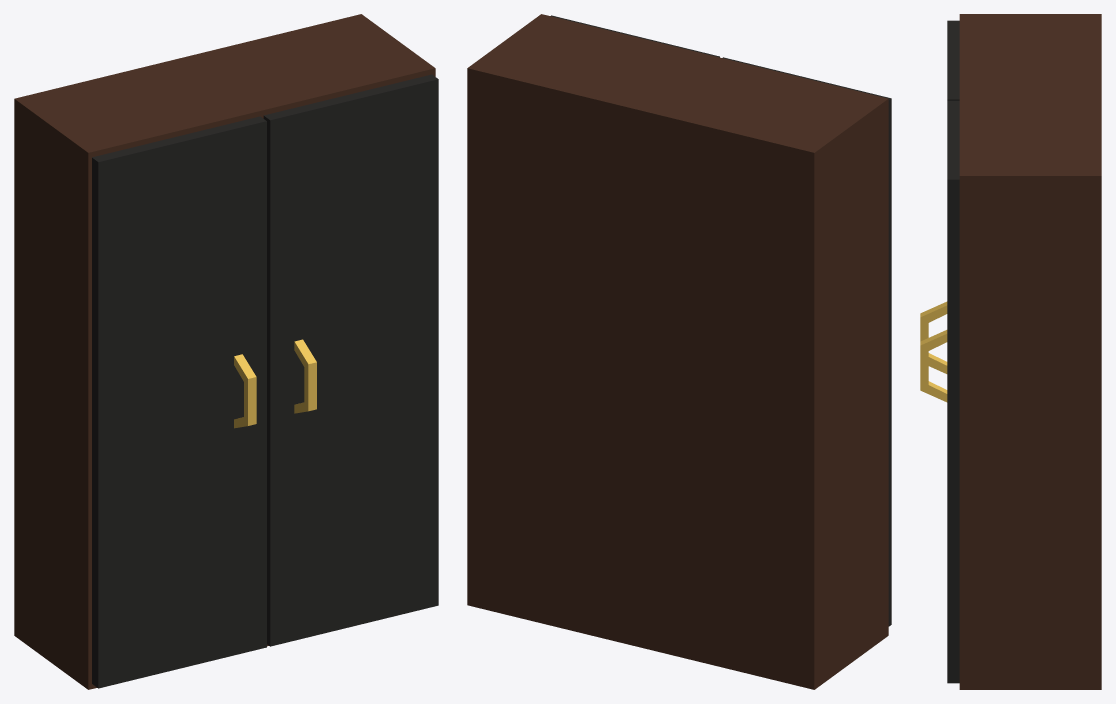
The model's file is WardRobe_1B.fbx.
3 renders of one model, left to right at view 1: azimuth 30°, elevation 25°; view 2: azimuth 150°, elevation 25°; view 3: azimuth 270°, elevation 25°, orthographic. The views are drawn at different scales.
Parts seen in each view (by area): view 1: polySurface1707; view 2: polySurface1707; view 3: polySurface1707.
Boxes of the visible parts, <box> form: polySurface1707: <box>14,14,438,689</box>; polySurface1707: <box>467,14,891,689</box>; polySurface1707: <box>920,14,1101,689</box>.
Bounding box in the file's own units: 2.3 × 3.4 × 1.09.
1 material, 1 textured.
